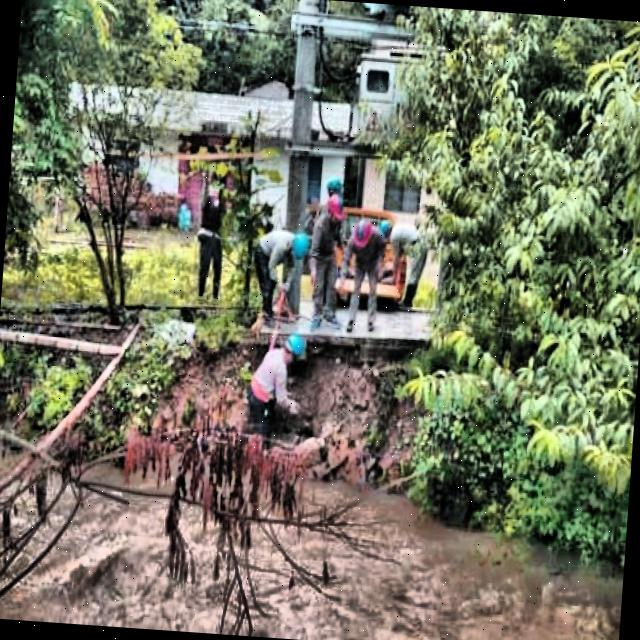helmet: (277, 330, 304, 364), (352, 216, 377, 252), (284, 229, 310, 260), (323, 191, 344, 228), (376, 215, 396, 242)
